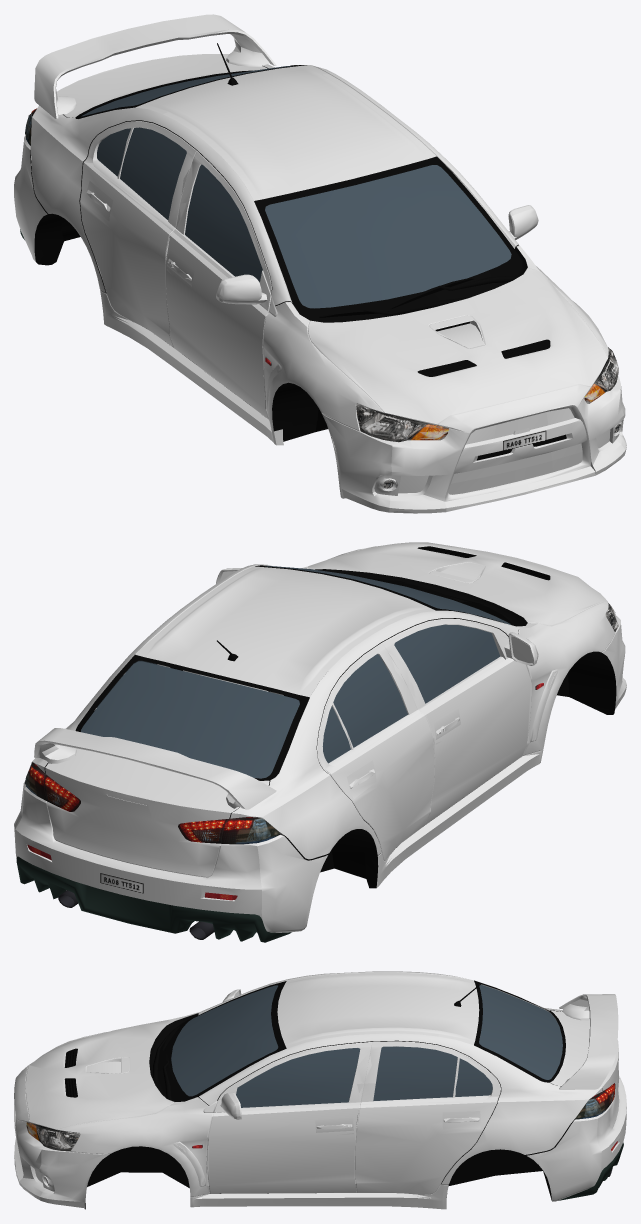
The model's file is Lancer_Evolution.FBX.
3 views of the same model, one above another, from view 1: azimuth 30°, elevation 25°; view 2: azimuth 150°, elevation 25°; view 3: azimuth 270°, elevation 25° (orthographic). The views are drawn at different scales.
Parts seen in each view (by area): view 1: Object001; view 2: Object001; view 3: Object001.
Part boxes in pixels (box(x1,y1,x2,y2)): Object001: box(14, 14, 626, 513); Object001: box(14, 542, 626, 942); Object001: box(14, 971, 626, 1209).
Size of the model in its own units: 2.07 by 1.45 by 4.53.
Materials: 9 (3 with a texture image).
